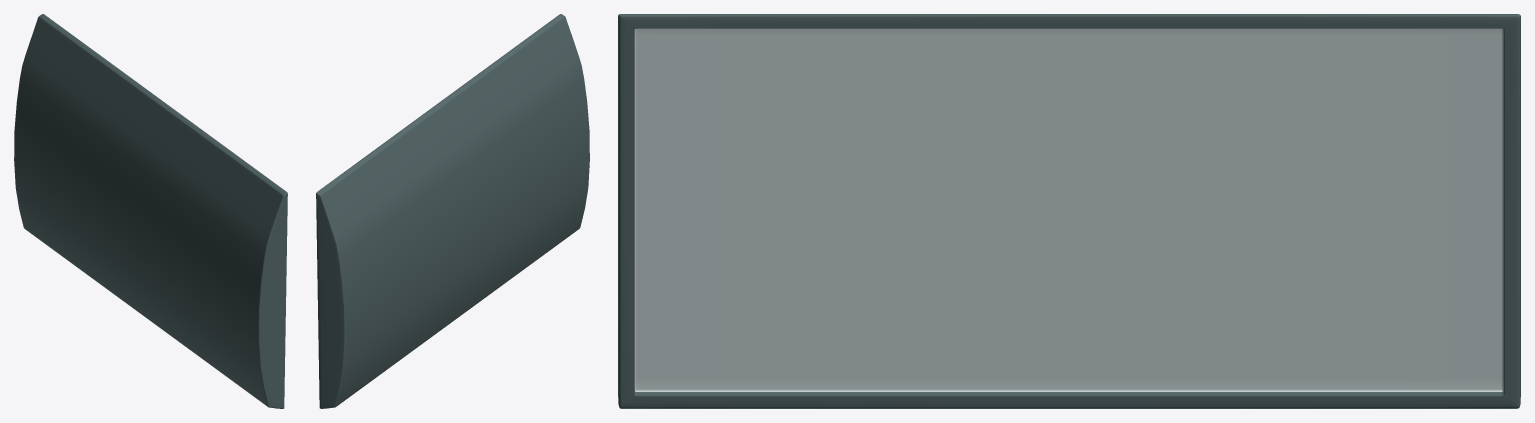
File: Guanggaopai001.fbx
3 views of the same model, side by side, from view 1: azimuth 30°, elevation 25°; view 2: azimuth 150°, elevation 25°; view 3: azimuth 270°, elevation 25° (orthographic). The views are drawn at different scales.
Parts seen in each view (by area): view 1: Subway_ad22; view 2: Subway_ad22; view 3: Subway_ad22.
Part boxes in pixels (x1,y1,x2,y2): Subway_ad22: (14,14,287,408); Subway_ad22: (316,14,589,408); Subway_ad22: (618,14,1520,408).
Size of the model in its own units: 30.22 by 209 by 431.
